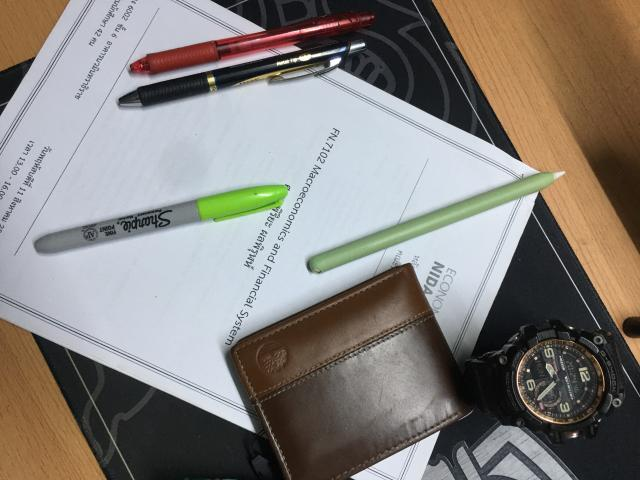Pen: (35, 185, 289, 254), (119, 40, 366, 106), (130, 11, 375, 74)
Wallet: (231, 264, 474, 479)
Watch: (465, 320, 625, 444)
paper: (0, 0, 535, 480)
